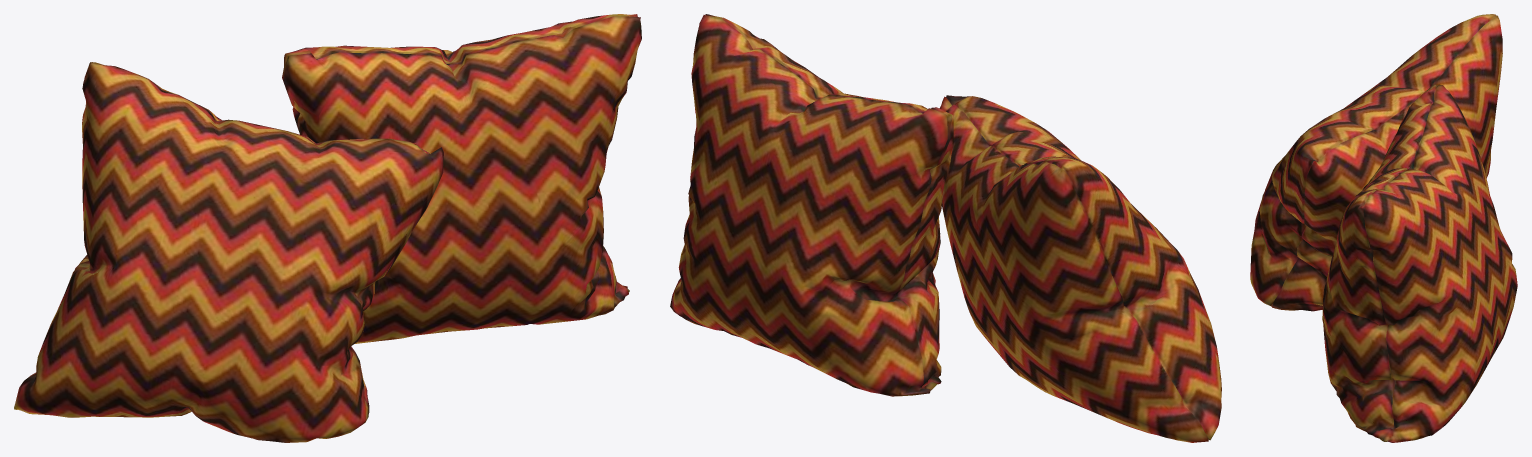
File: throw_pillows_01.glb
The picture shows the model from 3 angles, left to right: view 1: azimuth 30°, elevation 25°; view 2: azimuth 150°, elevation 25°; view 3: azimuth 270°, elevation 25°; orthographic projection. The views are drawn at different scales.
Parts seen in each view (by area): view 1: throw_pillows_01_pillow01, throw_pillows_01_pillow02; view 2: throw_pillows_01_pillow02, throw_pillows_01_pillow01; view 3: throw_pillows_01_pillow02, throw_pillows_01_pillow01.
Part boxes in pixels (x1=…): throw_pillows_01_pillow01: x1=14, y1=62, x2=443, y2=442; throw_pillows_01_pillow02: x1=282, y1=14, x2=641, y2=343; throw_pillows_01_pillow02: x1=670, y1=14, x2=953, y2=396; throw_pillows_01_pillow01: x1=939, y1=95, x2=1221, y2=442; throw_pillows_01_pillow02: x1=1322, y1=84, x2=1517, y2=442; throw_pillows_01_pillow01: x1=1250, y1=14, x2=1502, y2=311.
Size of the model in its own units: 0.9401 by 0.4502 by 0.4519.
Materials: 1 (1 with a texture image).
